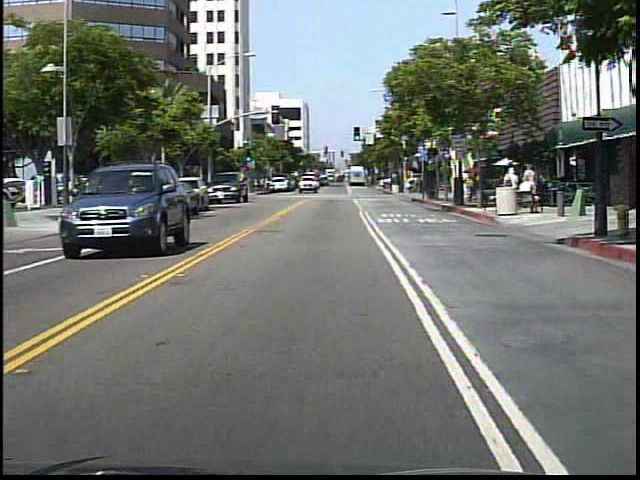person: (462, 172, 478, 206), (259, 173, 273, 199)
